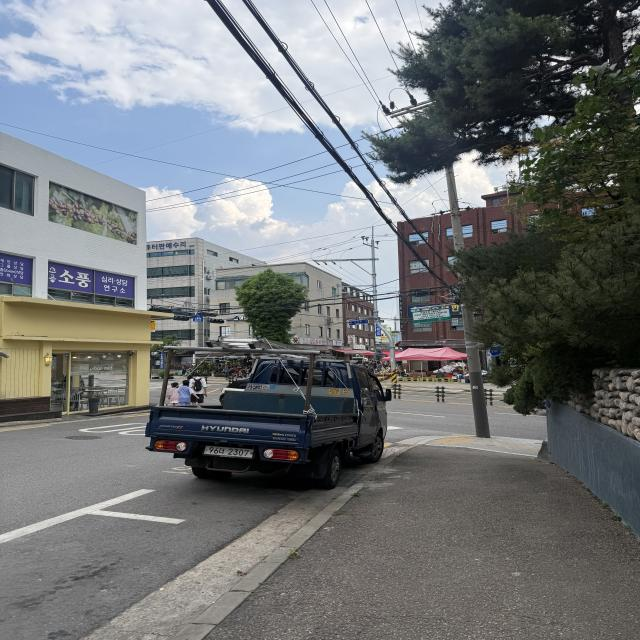car: (124, 332, 418, 509)
